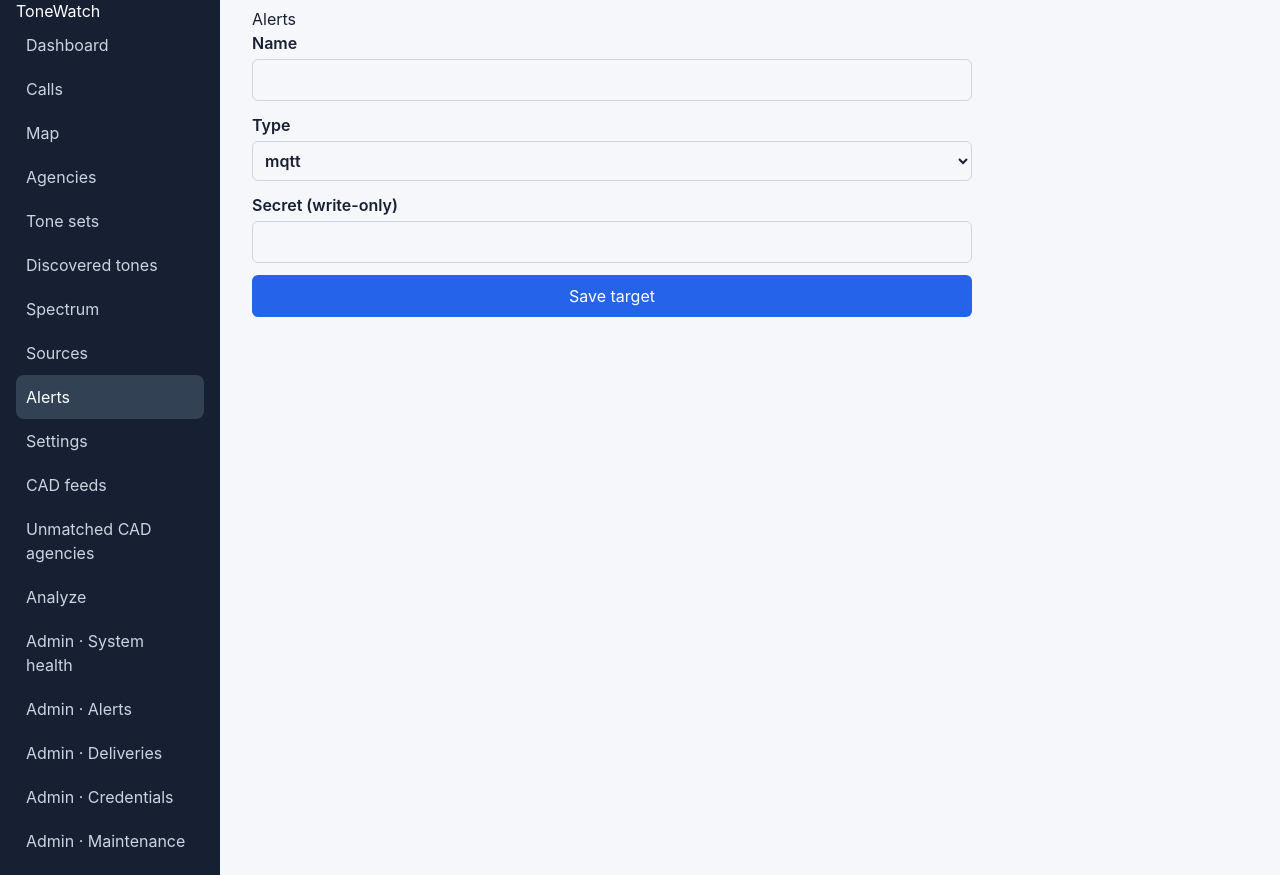
Test case: M18b Meshtastic alert UI › keeps save disabled on public channel until acknowledged
The width and height of the screenshot is (1280, 875).
Select "meshtastic" in the dropdown labelled "Type" at [612, 161], box [252,141,972,181]
(page scrolled)
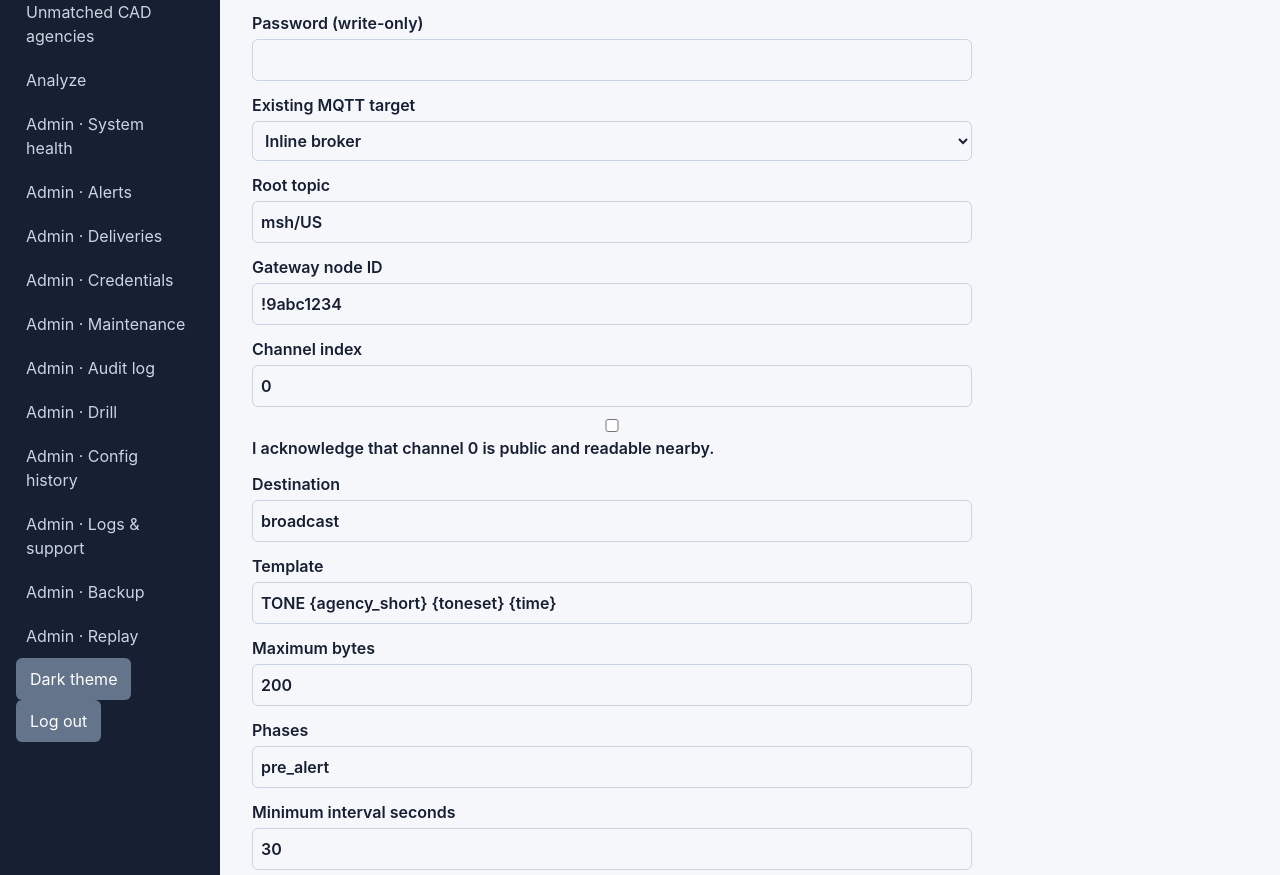
Click the checkbox labelled "I acknowledge that channel 0 is public and readable nearby." at [612, 426], box [252,419,972,432]
(page scrolled)
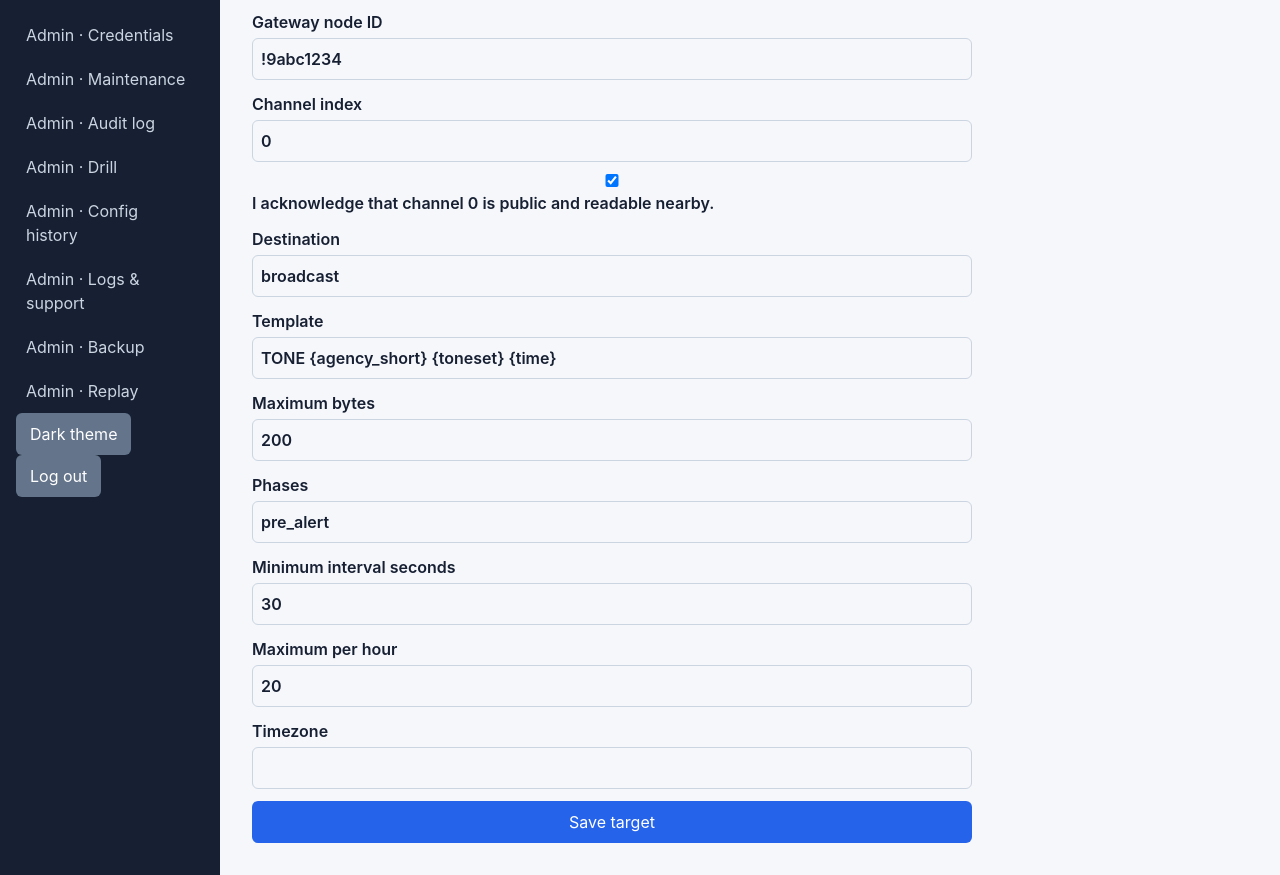
Expected: the button "Save target" is enabled, [252,801,972,843]
